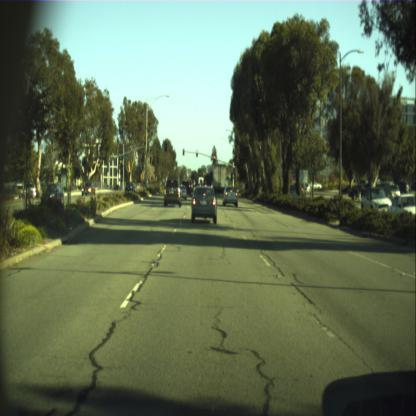Red: (232, 165, 234, 173), (196, 150, 198, 157), (213, 155, 215, 162)
RedLeft: (182, 148, 184, 154)
